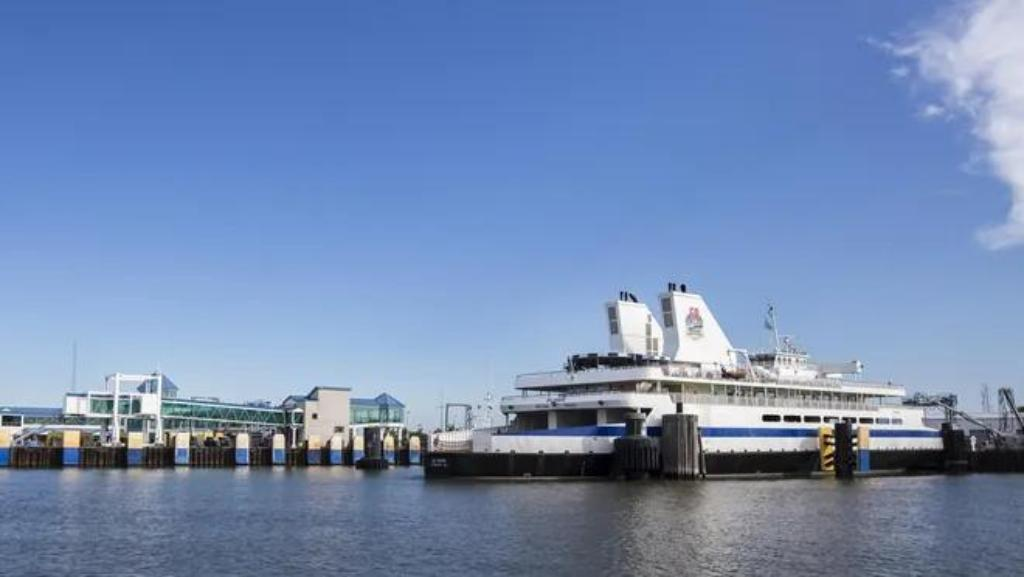PassengerShip: (387, 277, 965, 492)
